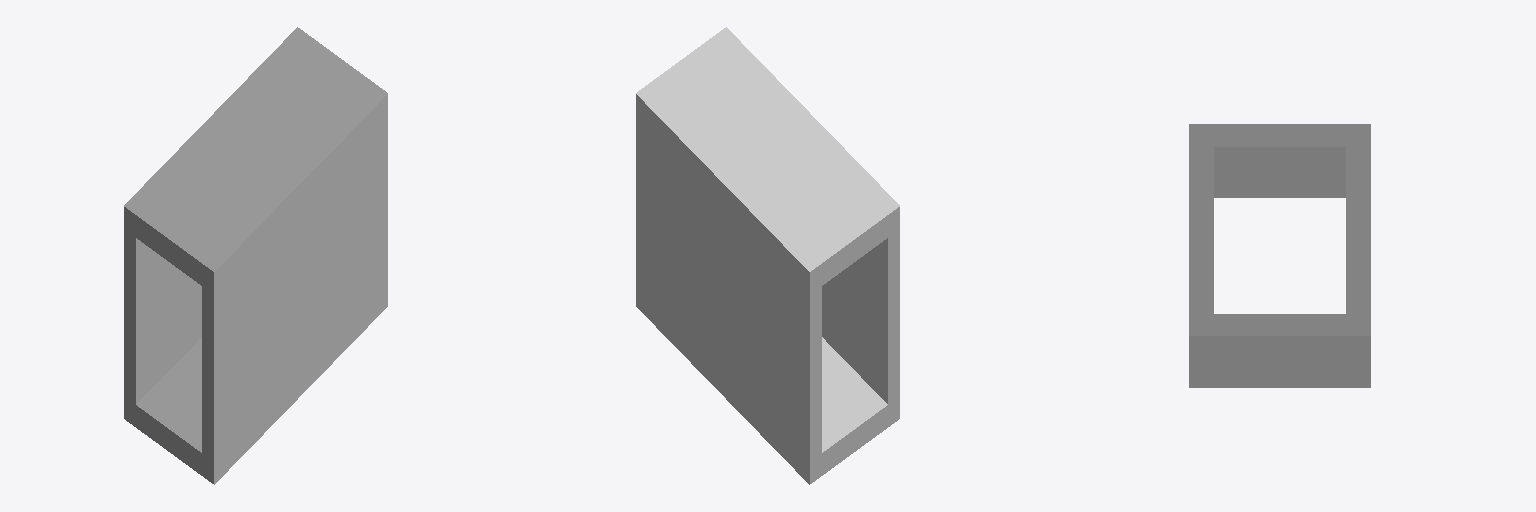
File: level3_stairs.obj
3 views of the same model, side by side, from view 1: azimuth 30°, elevation 25°; view 2: azimuth 150°, elevation 25°; view 3: azimuth 270°, elevation 25° (orthographic).
Visible parts, largest first — view 1: Stairs_Cube.003; view 2: Stairs_Cube.003; view 3: Stairs_Cube.003.
Part boxes in pixels (x1,y1,x2,y2): Stairs_Cube.003: (124, 27, 387, 484); Stairs_Cube.003: (636, 27, 899, 484); Stairs_Cube.003: (1189, 124, 1370, 387).
Bounding box in the file's own units: 8 × 15.34 × 7.22.